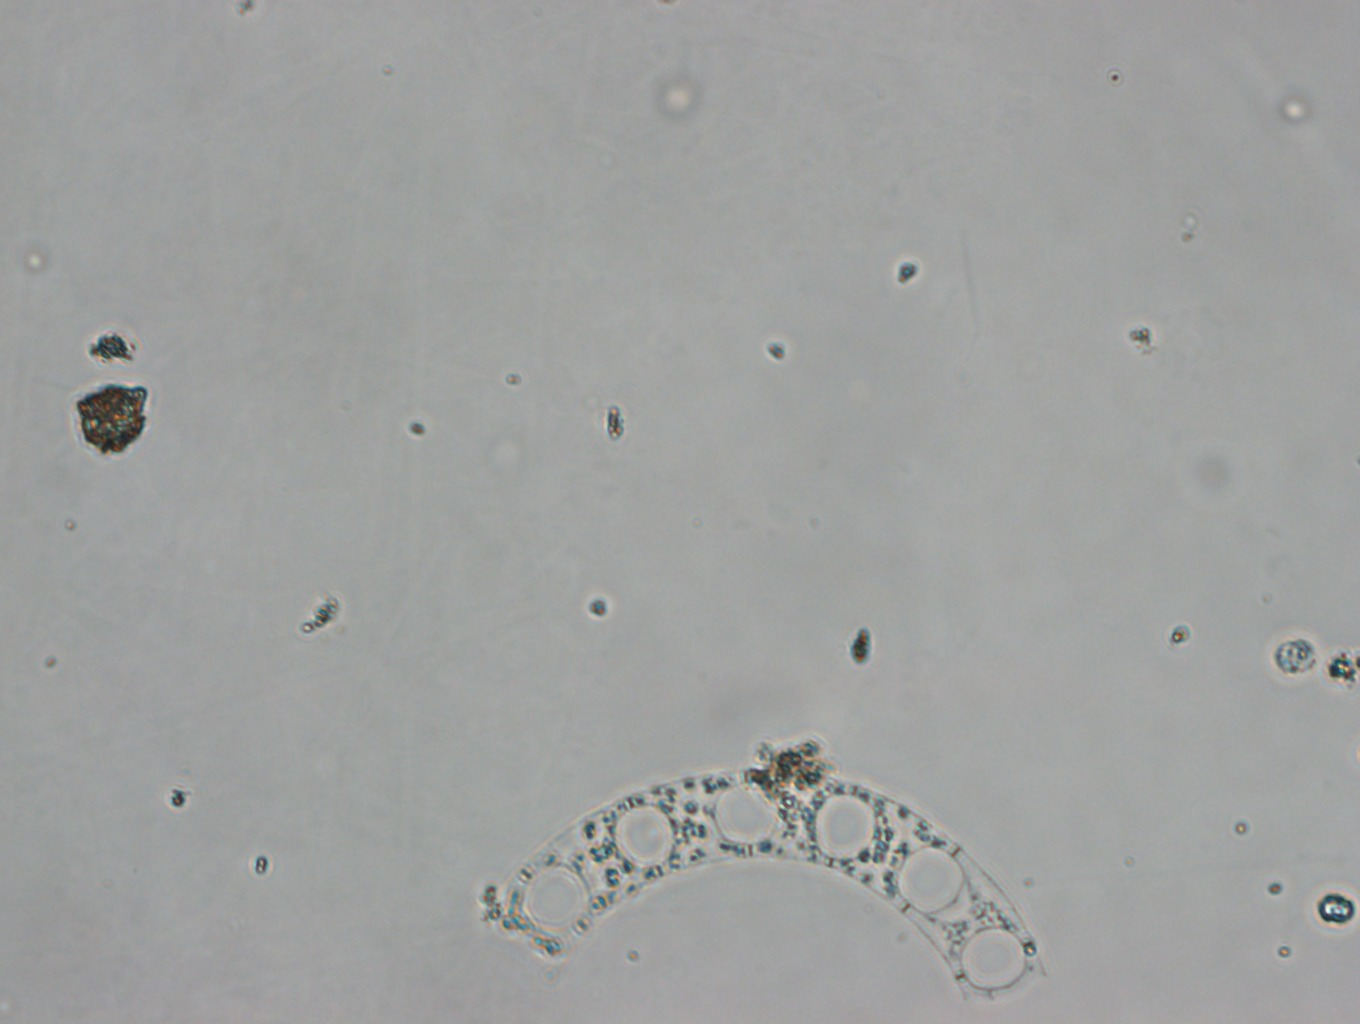eucampia: (476, 758, 1053, 1007)
